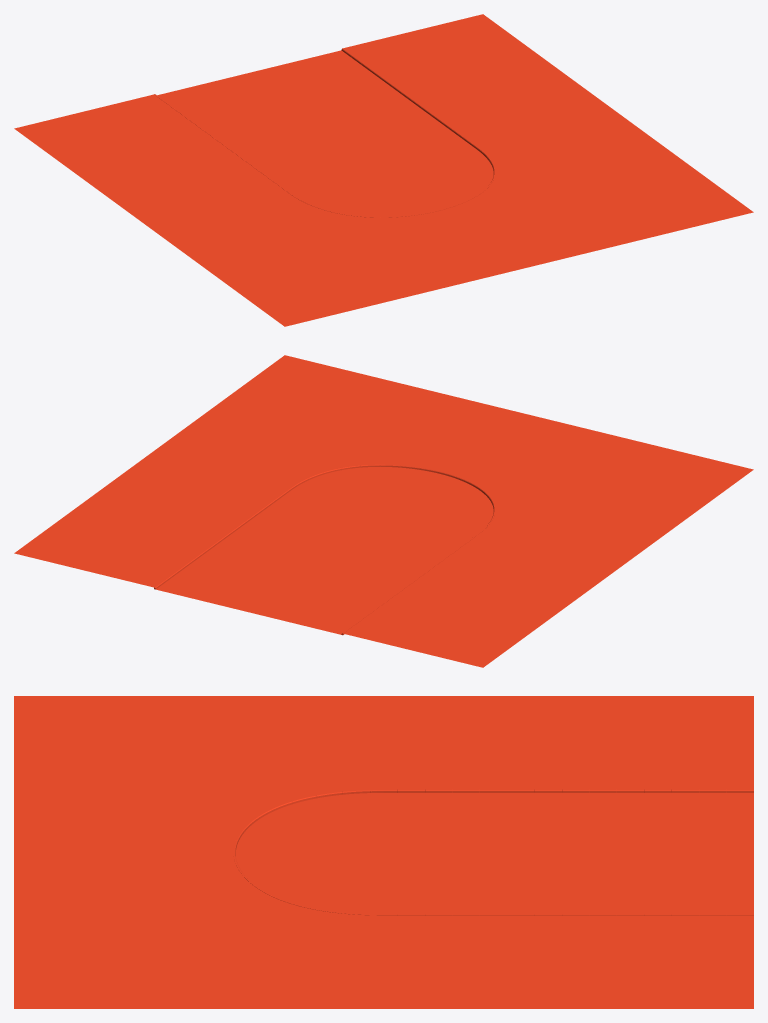
The model's file is SM_Mainroad_End_30x30_City.fbx.
3 views of the same model, one above another, from view 1: azimuth 30°, elevation 25°; view 2: azimuth 150°, elevation 25°; view 3: azimuth 270°, elevation 25° (orthographic). The views are drawn at different scales.
Visible parts, largest first — view 1: SM_Mainroad_End_30x30_City; view 2: SM_Mainroad_End_30x30_City; view 3: SM_Mainroad_End_30x30_City.
Boxes of the visible parts, <box> form: SM_Mainroad_End_30x30_City: <box>14,14,753,326</box>; SM_Mainroad_End_30x30_City: <box>14,355,753,667</box>; SM_Mainroad_End_30x30_City: <box>14,696,753,1008</box>.
Bounding box in the file's own units: 30 × 0.1084 × 30.
